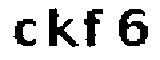6: (115, 6, 150, 51)
c: (13, 15, 39, 49)
f: (81, 5, 106, 47)
k: (46, 7, 82, 49)
